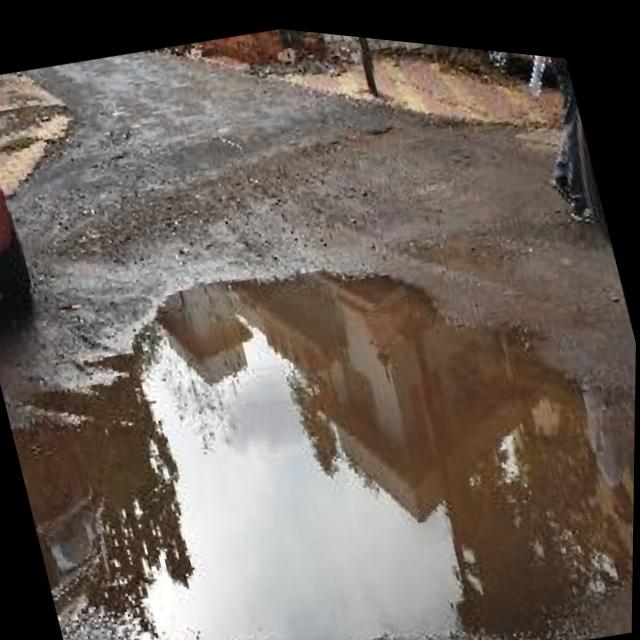puddle: (1, 262, 639, 640)
